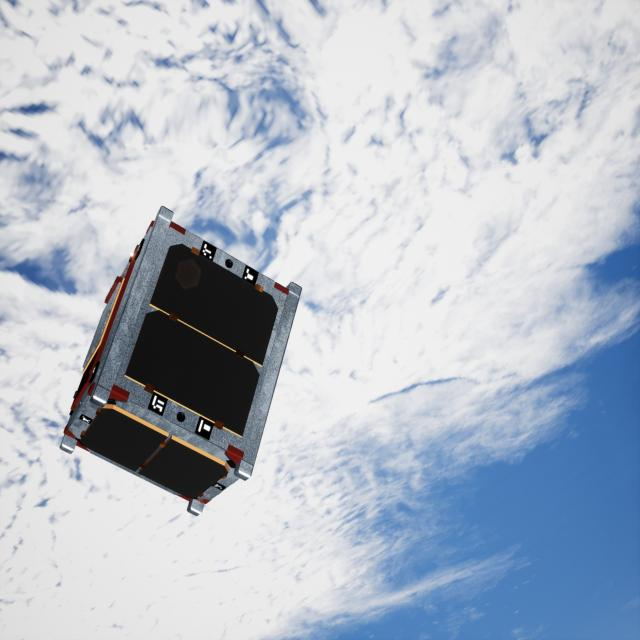medium_debris: (61, 203, 310, 514)
